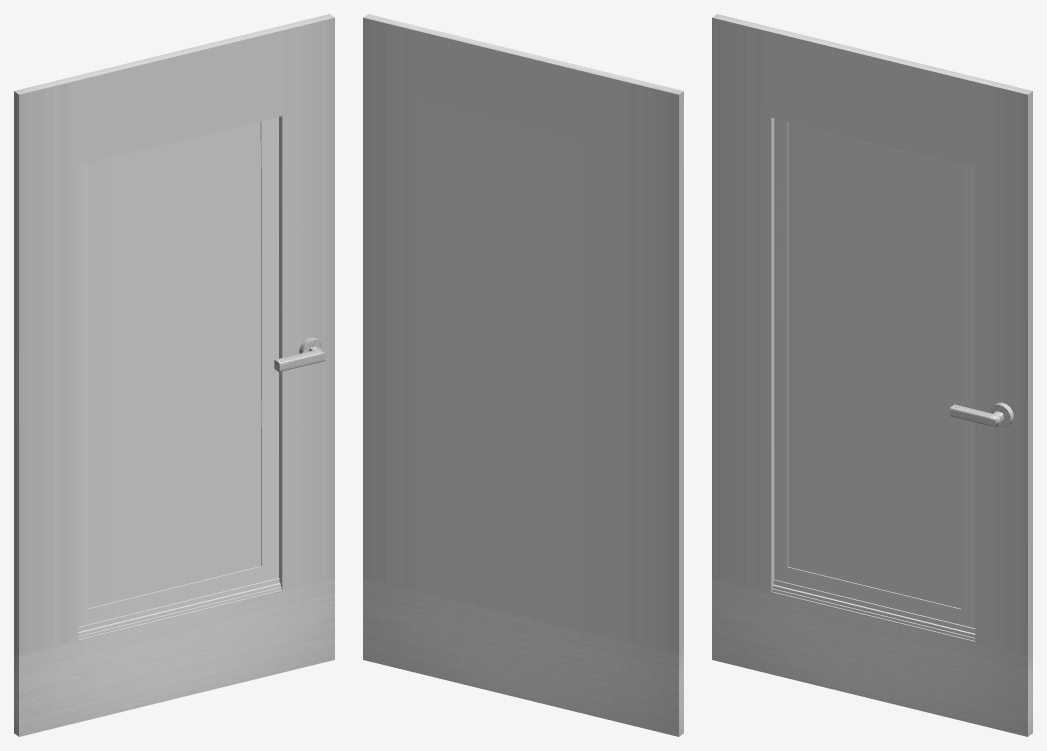
File: Door.FBX
3 renders of one model, left to right at view 1: azimuth 30°, elevation 25°; view 2: azimuth 150°, elevation 25°; view 3: azimuth 330°, elevation 25°, orthographic.
Parts seen in each view (by area): view 1: Box001, Box002; view 2: Box001; view 3: Box001, Box002.
Part boxes in pixels (x1,y1,x2,y2): Box001: [14, 14, 334, 736]; Box002: [274, 346, 324, 371]; Box001: [363, 14, 683, 736]; Box001: [712, 14, 1032, 736]; Box002: [950, 404, 1003, 427].
Bounding box in the file's own units: 34.73 × 67.51 × 3.12.
2 materials, 2 textured.
